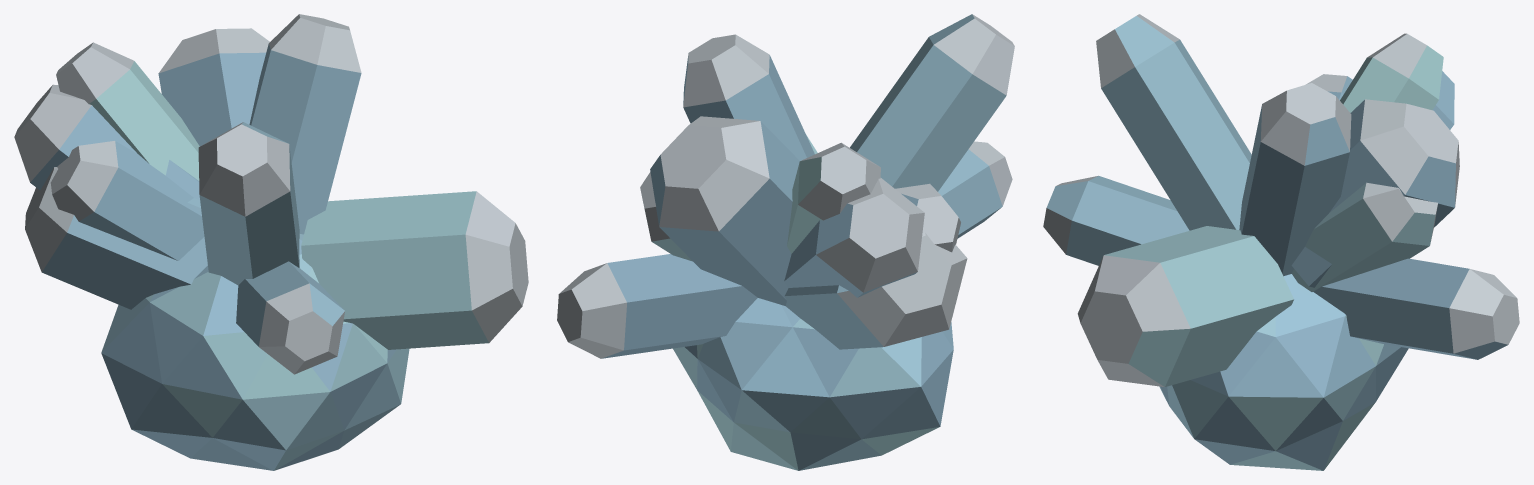
The model's file is frost_crystal.glb.
3 views of the same model, side by side, from view 1: azimuth 30°, elevation 25°; view 2: azimuth 150°, elevation 25°; view 3: azimuth 270°, elevation 25° (orthographic). The views are drawn at different scales.
Parts seen in each view (by area): view 1: Mesh; view 2: Mesh; view 3: Mesh.
Part boxes in pixels (x1,y1,x2,y2): Mesh: (14,14,528,470); Mesh: (557,14,1014,470); Mesh: (1043,14,1519,470).
Bounding box in the file's own units: 0.4205 × 0.4454 × 0.4771.
